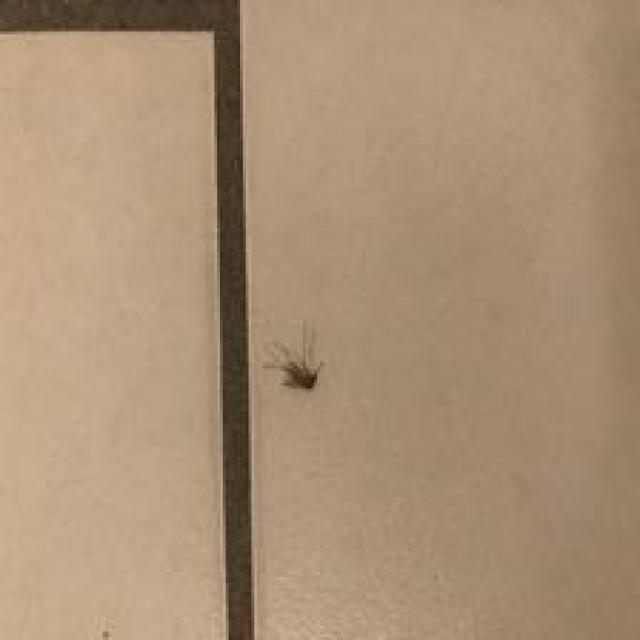Culex: (262, 320, 324, 391)
